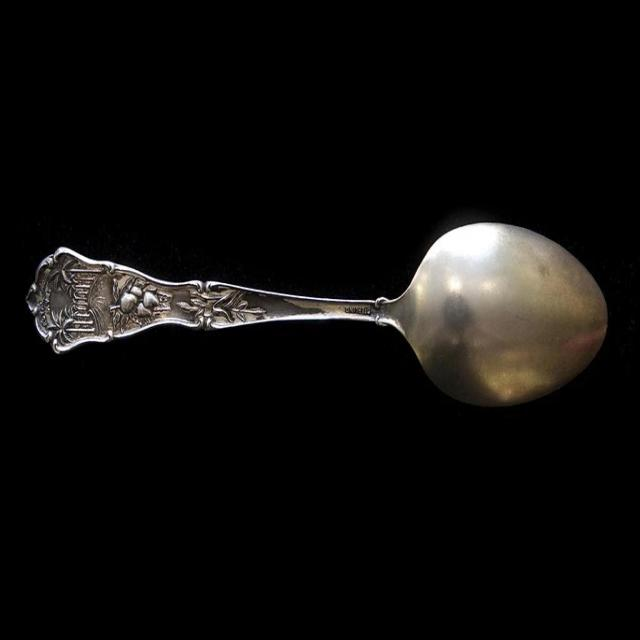spoon: (7, 208, 622, 421)
